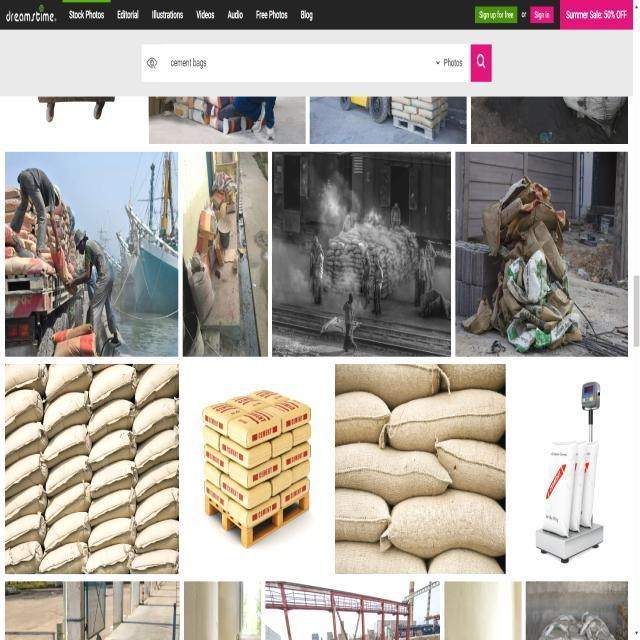gunny_bag: (388, 488, 506, 559), (380, 388, 506, 452), (336, 442, 451, 505), (335, 363, 443, 409), (436, 439, 506, 500), (543, 441, 578, 537), (335, 542, 427, 575), (335, 391, 391, 445), (336, 488, 390, 543), (42, 390, 91, 438), (88, 364, 137, 410), (42, 424, 91, 468), (134, 425, 178, 474), (87, 399, 137, 442), (132, 398, 179, 443), (44, 482, 91, 526), (134, 364, 178, 410), (88, 429, 136, 471), (44, 455, 92, 497), (4, 453, 47, 499), (89, 429, 136, 471), (134, 487, 178, 531), (134, 459, 179, 502), (42, 512, 90, 552), (44, 363, 92, 402), (90, 460, 137, 499), (88, 488, 136, 526), (4, 389, 43, 435), (4, 484, 46, 526), (87, 517, 136, 553), (83, 543, 134, 574), (134, 519, 179, 554), (4, 513, 46, 549), (4, 541, 42, 575), (130, 549, 178, 574)
